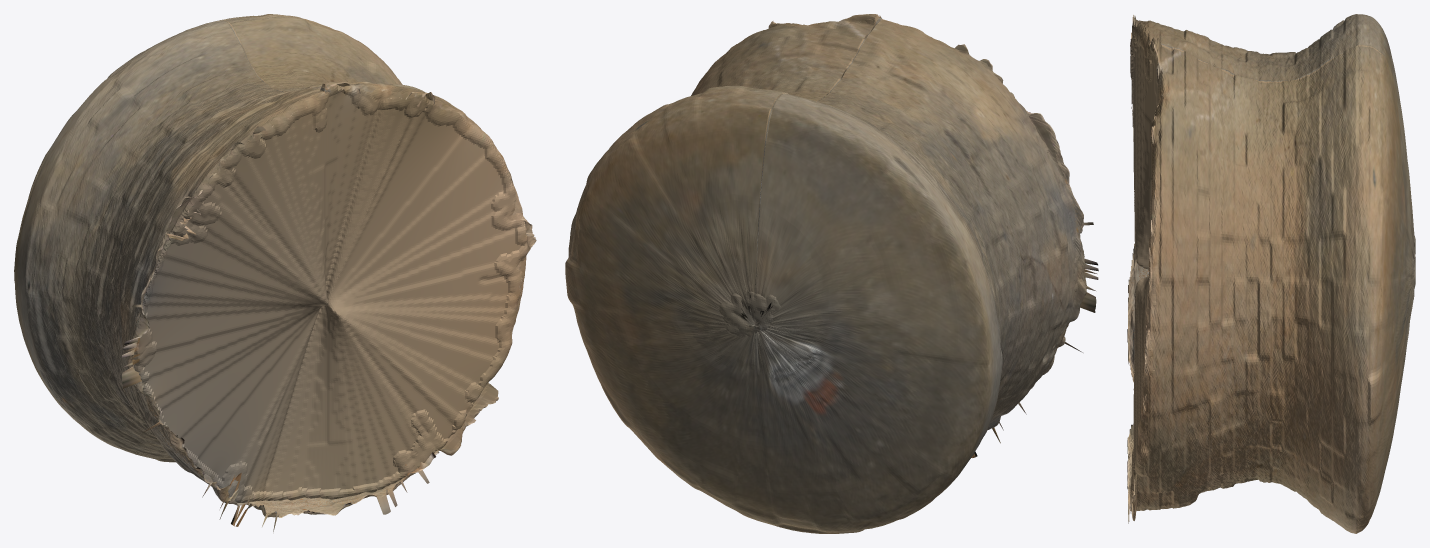
File: volume2_mesh.glb
The picture shows the model from 3 angles, left to right: view 1: azimuth 30°, elevation 25°; view 2: azimuth 150°, elevation 25°; view 3: azimuth 270°, elevation 25°; orthographic projection. The views are drawn at different scales.
Parts seen in each view (by area): view 1: fill, ipn; view 2: ipn, fill; view 3: ipn, fill.
Boxes of the visible parts, box(x1,y1,x2,y2) form: fill: box(131, 85, 527, 502); ipn: box(14, 14, 536, 531); ipn: box(565, 14, 1098, 533); fill: box(719, 15, 1077, 383); ipn: box(1127, 14, 1414, 533); fill: box(1130, 20, 1415, 510).
Bounding box in the file's own units: 1.99 × 1.99 × 1.1.
Materials: 2 (1 with a texture image).
